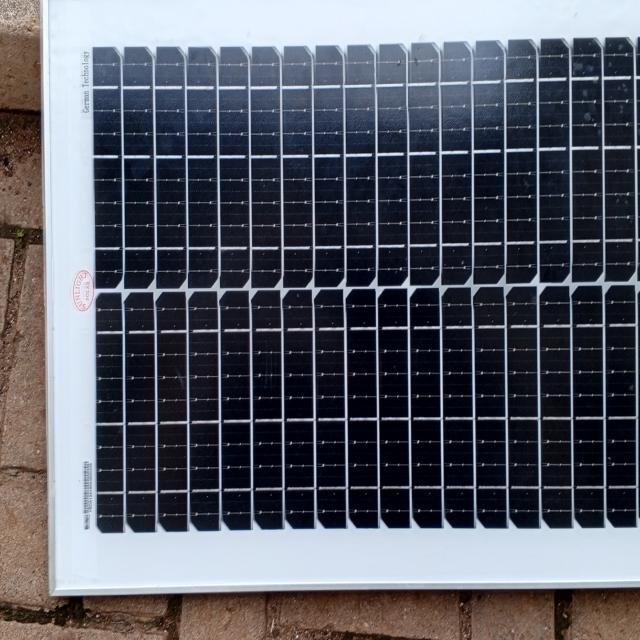Clean: (74, 18, 640, 552)
